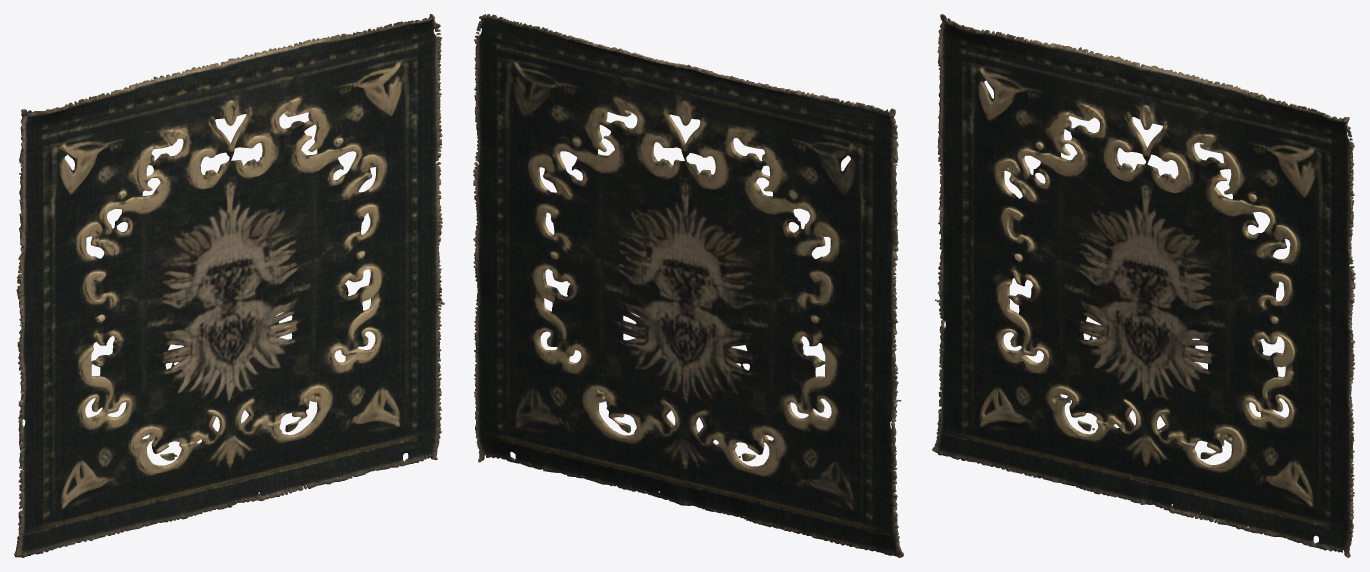
File: 07-finished-textile.glb
3 views of the same model, side by side, from view 1: azimuth 30°, elevation 25°; view 2: azimuth 150°, elevation 25°; view 3: azimuth 330°, elevation 25° (orthographic).
Visible parts, largest first — view 1: world; view 2: world; view 3: world.
Boxes of the visible parts, <box> form: world: <box>14,14,444,557</box>; world: <box>473,14,903,557</box>; world: <box>932,14,1355,557</box>.
Bounding box in the file's own units: 0.56 × 0.5641 × 0.021.
1 material, 1 textured.
